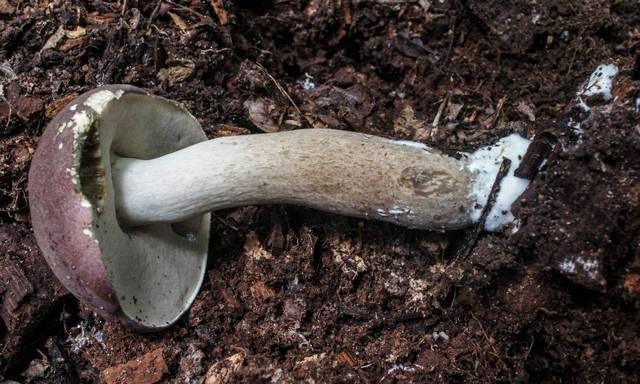Non-edible Mushroom: (26, 82, 534, 332)
